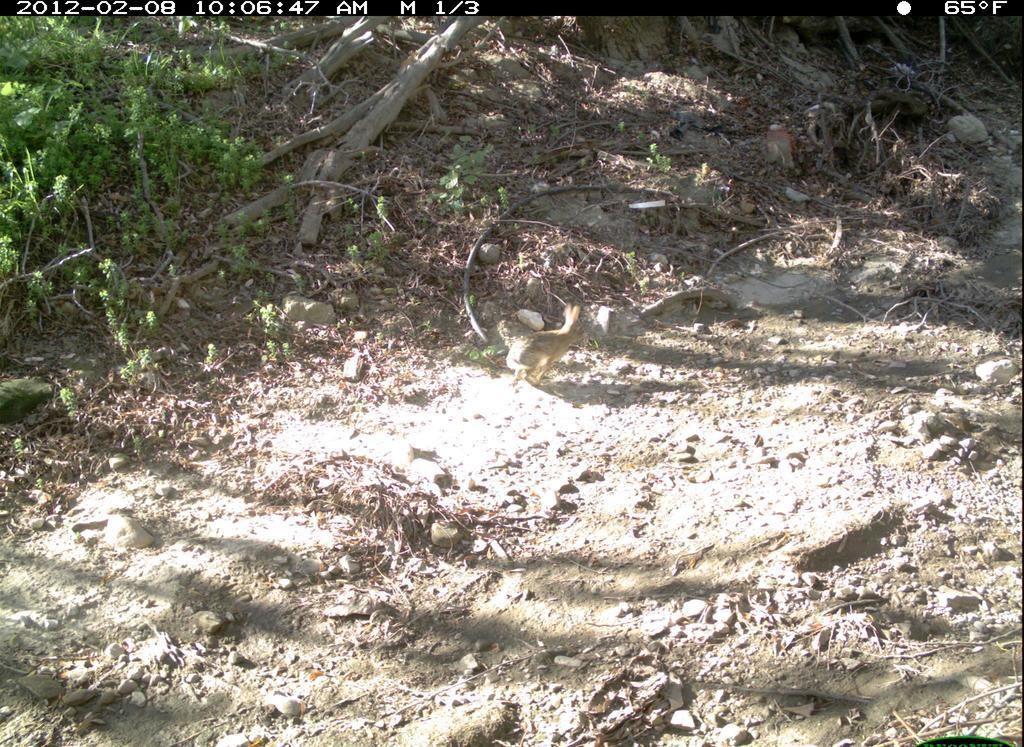rabbit: (475, 273, 638, 411)
